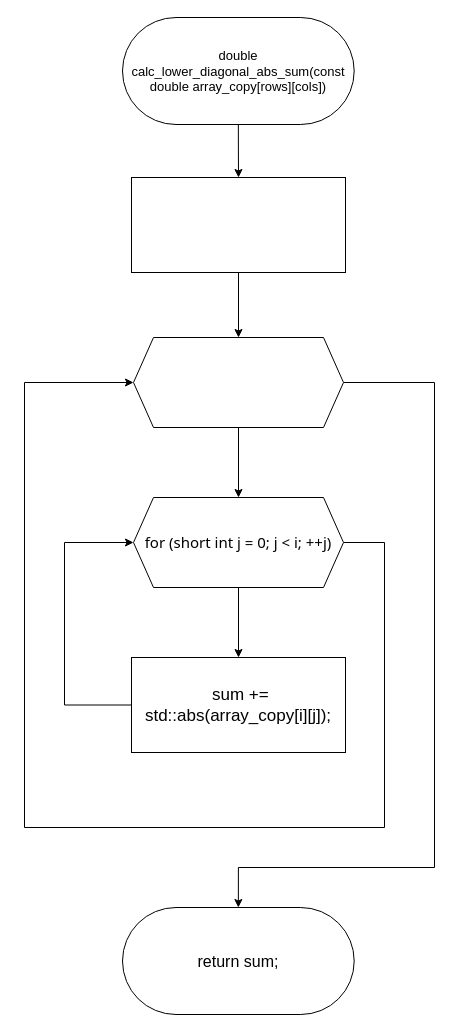
Image size: 460x1032. Some labels were removed from this diagram. The shapes that lost their labels are listed below. From the top down, each one's centre as x and y in pixels, then its label:
At point (238, 224): "double sum = 0;".
At point (238, 382): "for (short int i = 1; i < rows; ++i)".
